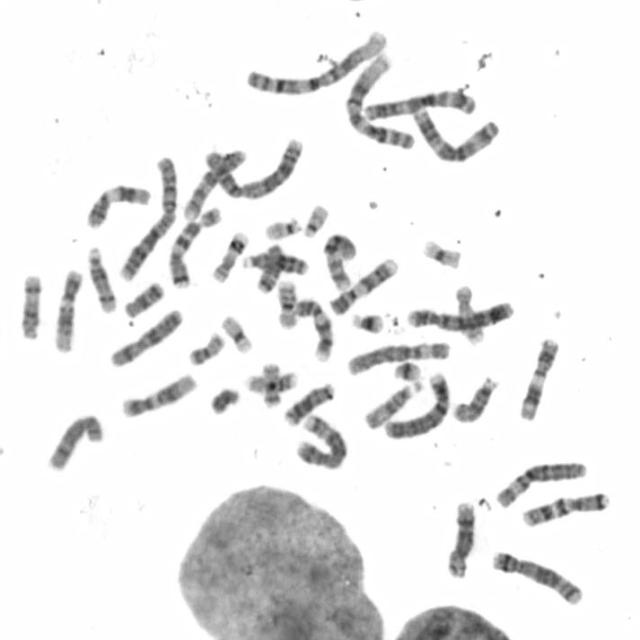A1: (240, 26, 390, 98), (341, 50, 418, 152)
A2: (116, 152, 179, 283), (200, 134, 305, 202)
A3: (408, 104, 502, 164), (360, 86, 478, 123)
B4: (381, 368, 452, 441), (404, 297, 515, 333)
B5: (488, 546, 586, 607), (293, 410, 349, 471)
C10: (180, 146, 248, 221), (320, 230, 359, 292)
C11: (515, 334, 561, 422), (81, 180, 152, 230)
C12: (118, 370, 199, 420), (50, 266, 84, 354)
C6: (492, 456, 588, 509), (345, 338, 452, 377)
C7: (164, 202, 227, 288), (517, 488, 612, 528)
C8: (44, 409, 106, 474), (442, 498, 478, 580)
C9: (327, 254, 399, 317), (292, 296, 334, 364)
D13: (280, 379, 337, 427), (240, 248, 310, 276)
D14: (85, 243, 118, 313), (16, 270, 43, 340)
D15: (360, 377, 425, 431), (449, 372, 499, 424)
E16: (272, 277, 299, 331), (242, 368, 298, 394)
E17: (450, 281, 486, 346), (209, 228, 250, 284)
E18: (252, 241, 286, 295), (120, 278, 164, 319)
F19: (419, 236, 464, 272), (218, 311, 254, 355)
F20: (186, 329, 227, 367), (258, 358, 282, 409)
G21: (348, 309, 387, 336), (390, 355, 424, 383)
G22: (261, 213, 304, 241), (300, 200, 330, 238)
X: (106, 306, 184, 369)
Y: (206, 383, 242, 417)
